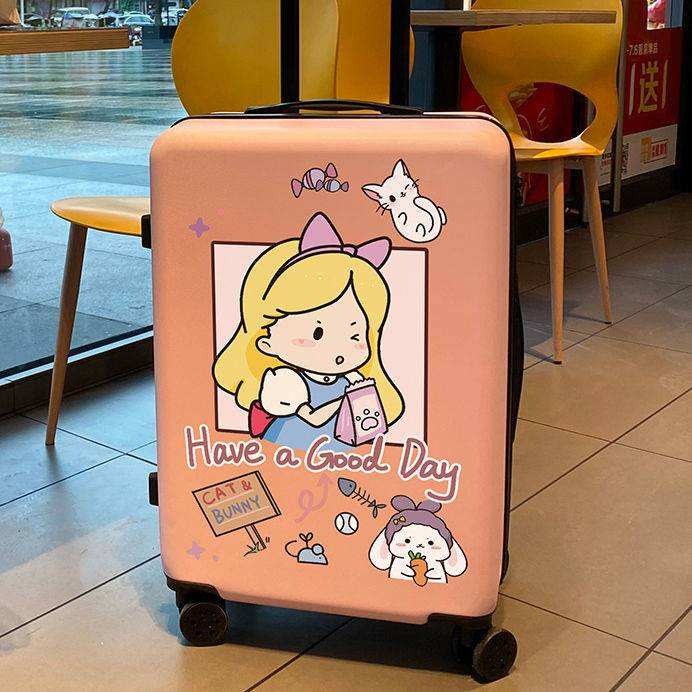box: (149, 113, 511, 627)
handle: (244, 99, 420, 114)
wheel: (458, 627, 518, 683), (178, 602, 228, 647)
